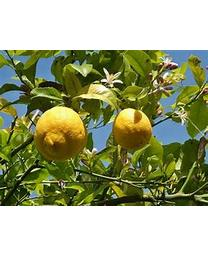lemon: (34, 107, 86, 163), (113, 110, 153, 152)
